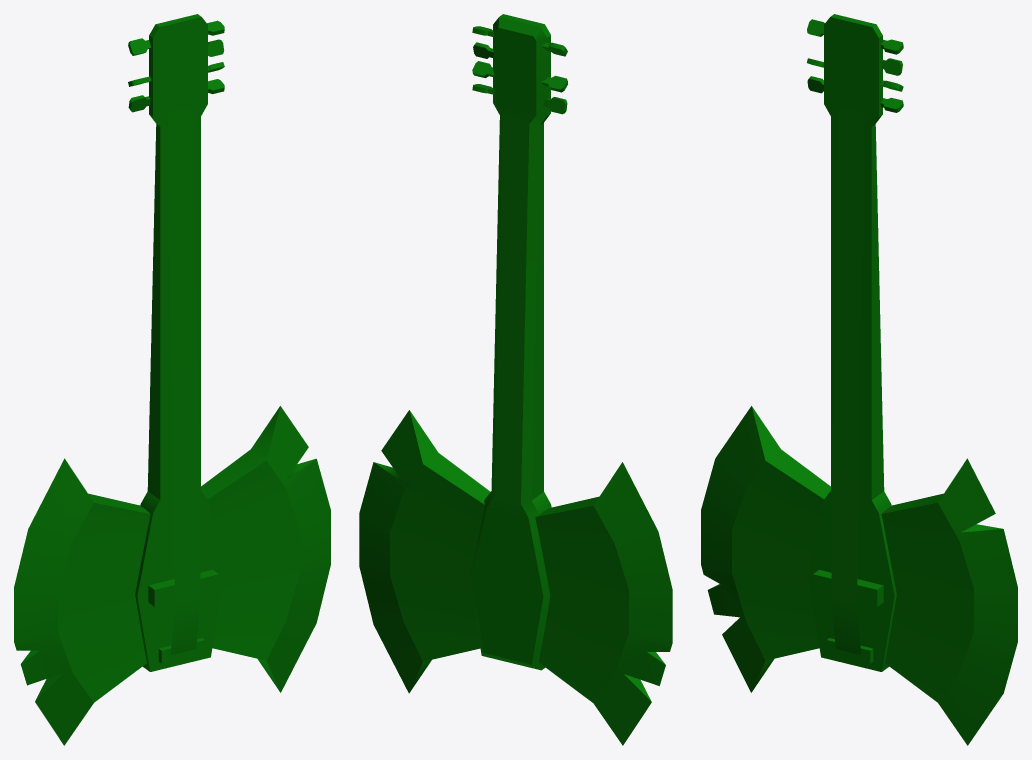
File: Bard_Undead_Weapon.fbx
The picture shows the model from 3 angles, left to right: view 1: azimuth 30°, elevation 25°; view 2: azimuth 150°, elevation 25°; view 3: azimuth 330°, elevation 25°; orthographic projection.
Visible parts, largest first — view 1: guitare; view 2: guitare; view 3: guitare.
Boxes of the visible parts, left/top/right/bottom form: guitare: left=14, top=14, right=330, bottom=745; guitare: left=359, top=14, right=672, bottom=745; guitare: left=701, top=14, right=1017, bottom=745.
Bounding box in the file's own units: 69.3 × 147 × 9.02.
